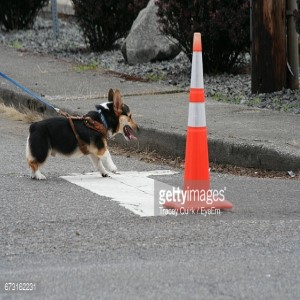traffic cone: (163, 32, 233, 213)
